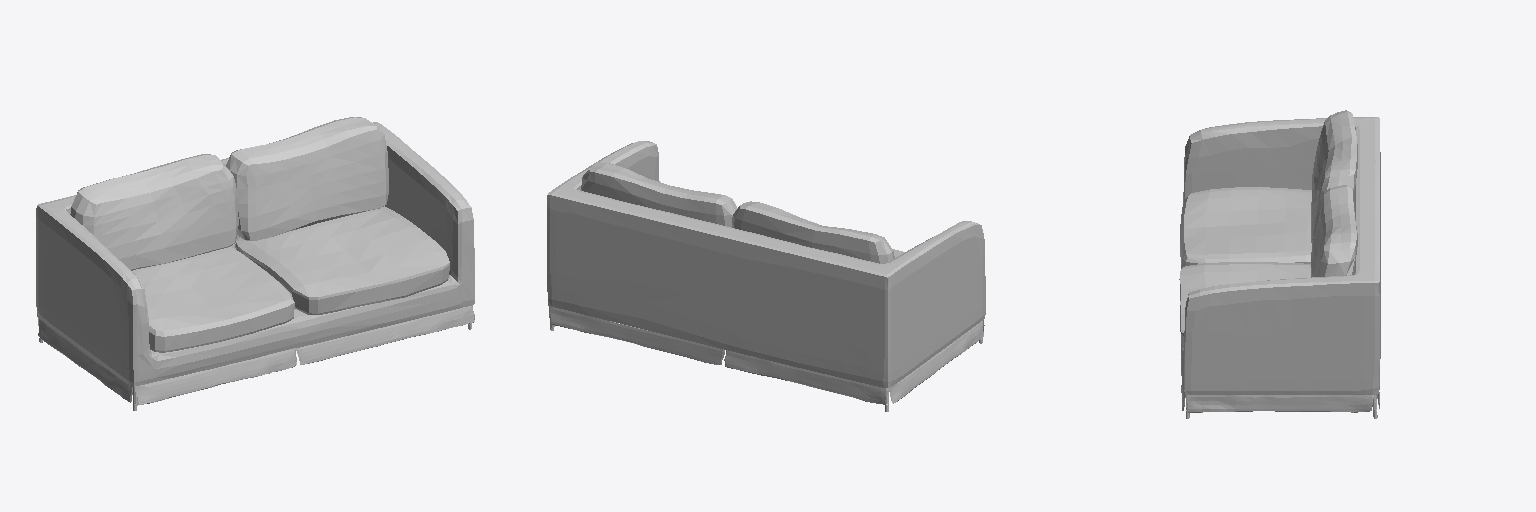
The model's file is couch.obj.
3 renders of one model, left to right at view 1: azimuth 30°, elevation 25°; view 2: azimuth 150°, elevation 25°; view 3: azimuth 270°, elevation 25°, orthographic.
Visible parts, largest first — view 1: couch02_lo_lambert1_0; view 2: couch02_lo_lambert1_0; view 3: couch02_lo_lambert1_0.
Boxes of the visible parts, x1,y1,x2,y2 form: couch02_lo_lambert1_0: [36, 117, 474, 410]; couch02_lo_lambert1_0: [547, 141, 985, 411]; couch02_lo_lambert1_0: [1179, 110, 1380, 418].
Size of the model in its own units: 202 by 90.07 by 102.